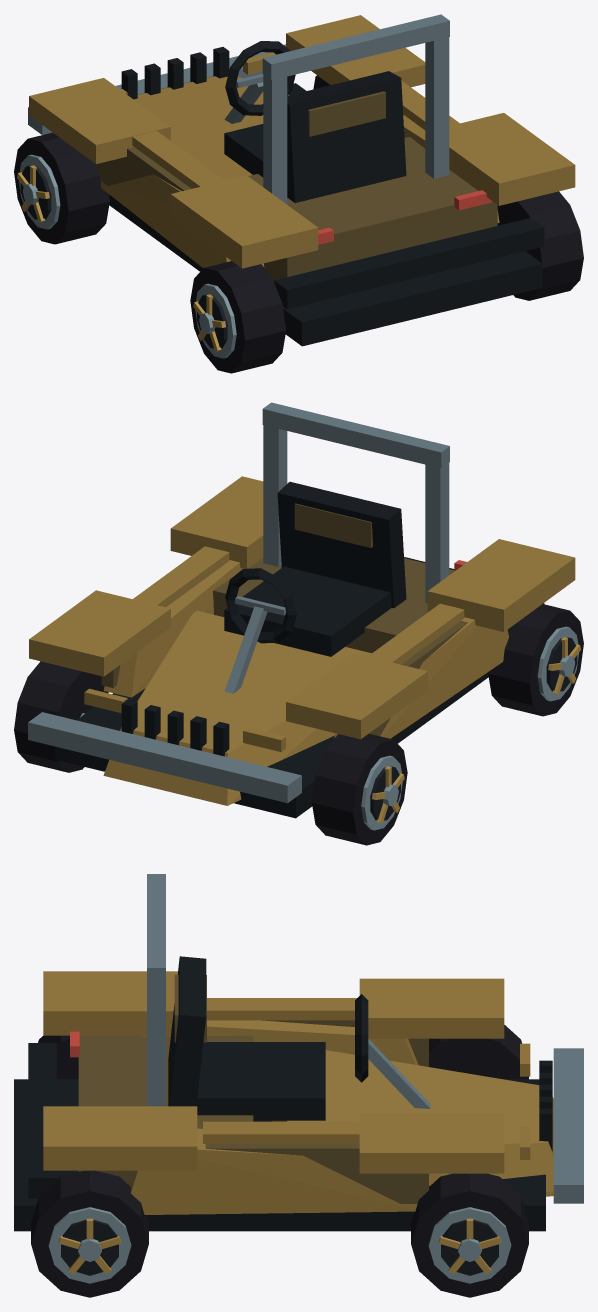
Rendered from kart.glb.
3 renders of one model, top to bottom at view 1: azimuth 30°, elevation 25°; view 2: azimuth 150°, elevation 25°; view 3: azimuth 270°, elevation 25°, orthographic. The views are drawn at different scales.
Parts seen in each view (by area): view 1: chassis, wheel-rear-left, wheel-front-left, wheel-rear-right; view 2: chassis, wheel-front-left, wheel-rear-left, wheel-front-right; view 3: chassis, wheel-rear-right, wheel-front-right, wheel-front-left, wheel-rear-left.
Part boxes in pixels (x1,y1,x2,y2): chassis: (28,14,575,346); wheel-rear-left: (190,261,286,373); wheel-front-left: (14,132,109,244); wheel-rear-right: (497,191,583,300); chassis: (28,402,575,818); wheel-front-left: (311,733,407,845); wheel-rear-left: (488,604,583,716); wheel-front-right: (14,661,108,772); chassis: (14,874,583,1231); wheel-rear-right: (31,1170,148,1297); wheel-front-right: (411,1173,528,1297); wheel-front-left: (429,1025,528,1079); wheel-rear-left: (38,1035,78,1079).
Bounding box in the file's own units: 2.39 × 1.67 × 3.
